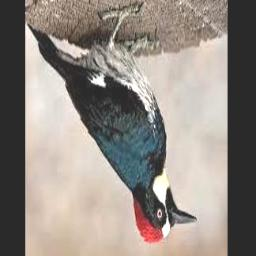Woodpecker: (28, 6, 198, 244)
